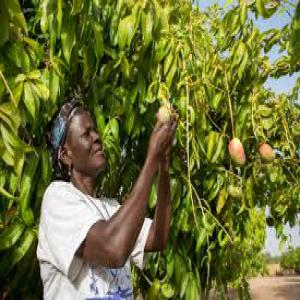Tree: (2, 0, 298, 295)
